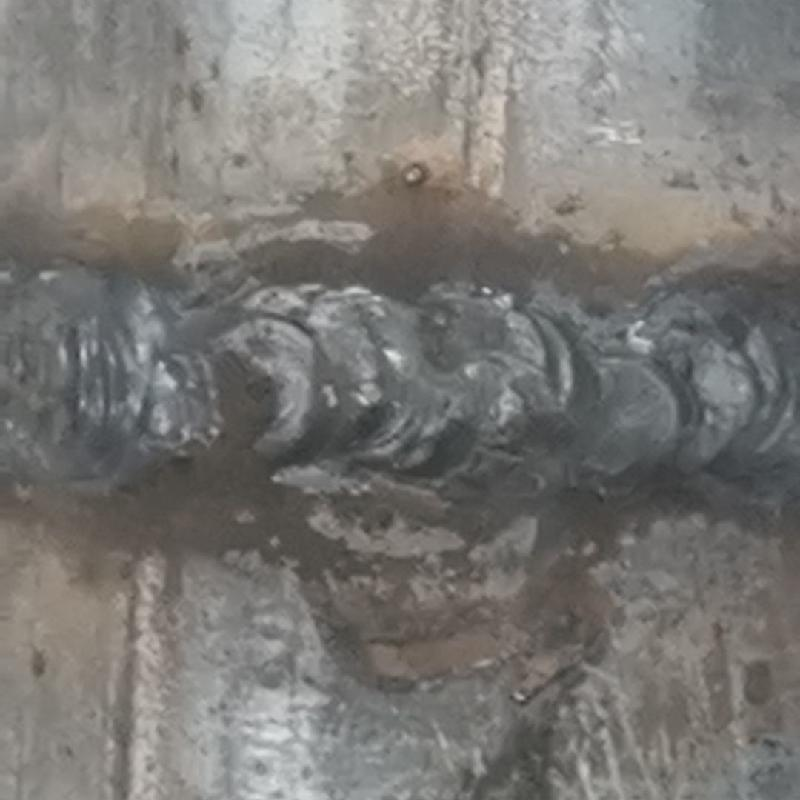good: (1, 251, 799, 500)
